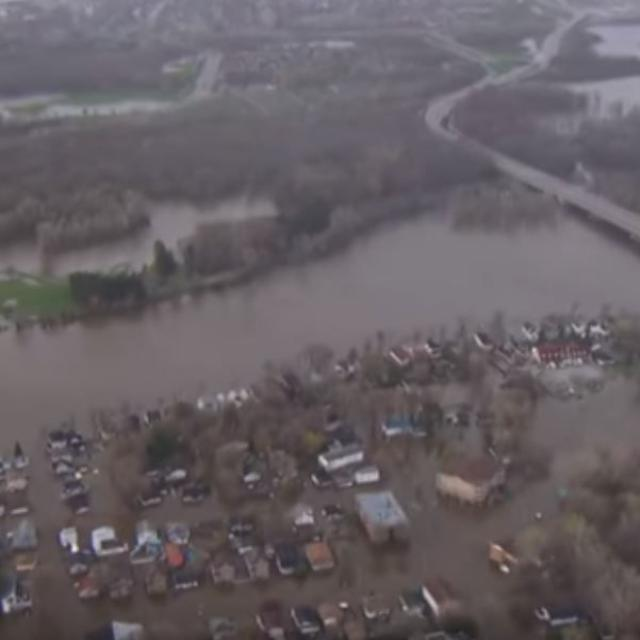flooded_areas: (0, 152, 596, 450)
